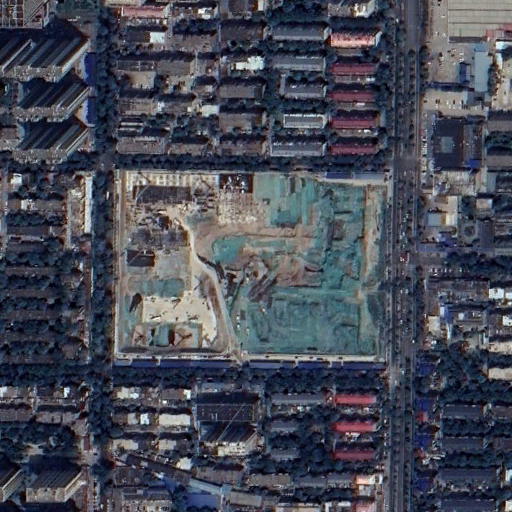cw: (117, 169, 384, 355)
